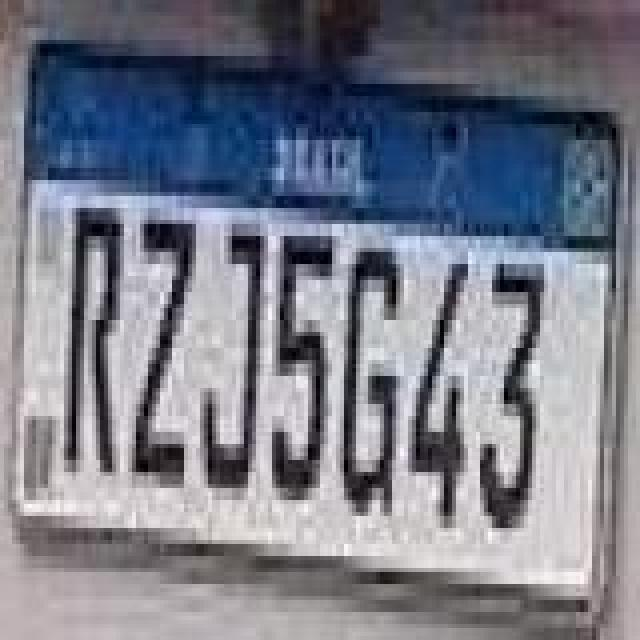3: (476, 256, 548, 536)
4: (404, 246, 476, 538)
5: (268, 222, 340, 498)
G: (344, 246, 408, 522)
J: (204, 228, 276, 492)
R: (58, 200, 126, 480)
Z: (132, 212, 204, 492)
